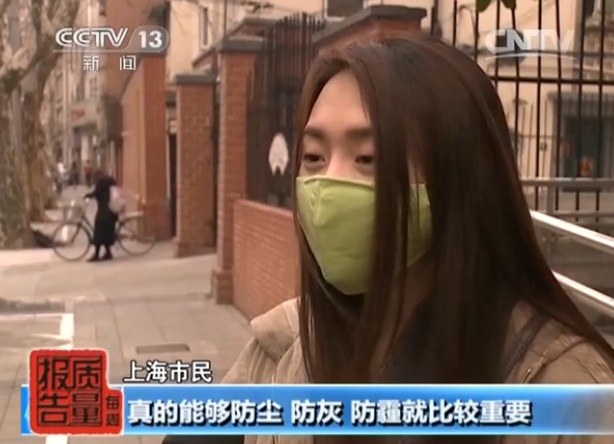face_mask: (294, 75, 437, 295)
